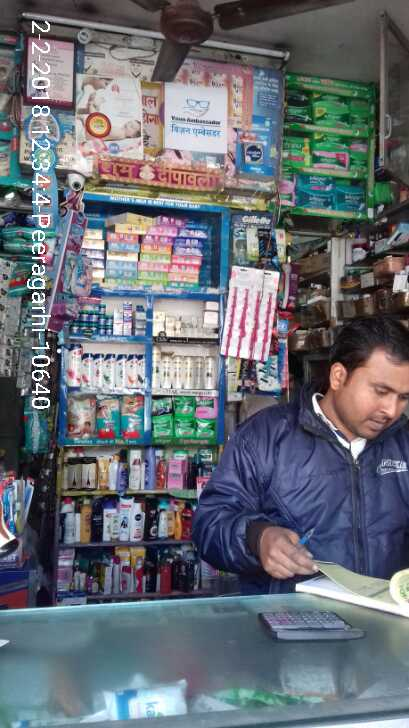vicks: (70, 302, 153, 341)
